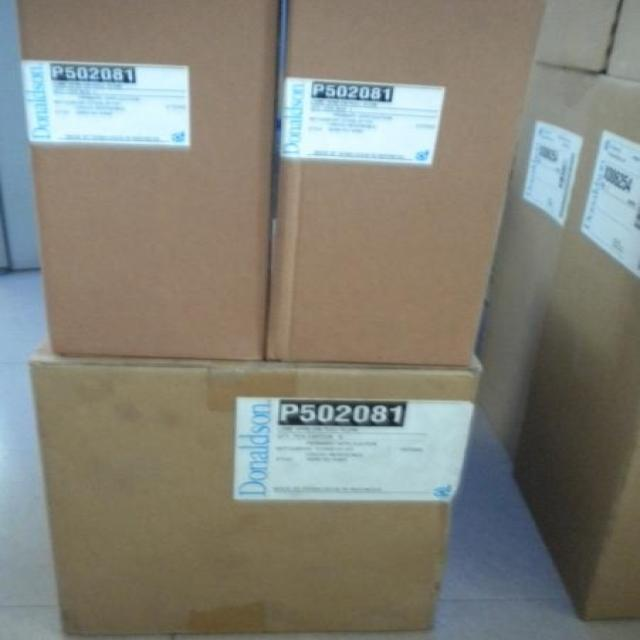box: (33, 326, 482, 634), (264, 2, 551, 368), (16, 0, 285, 361), (474, 60, 640, 617), (536, 0, 623, 76), (600, 0, 640, 84)
